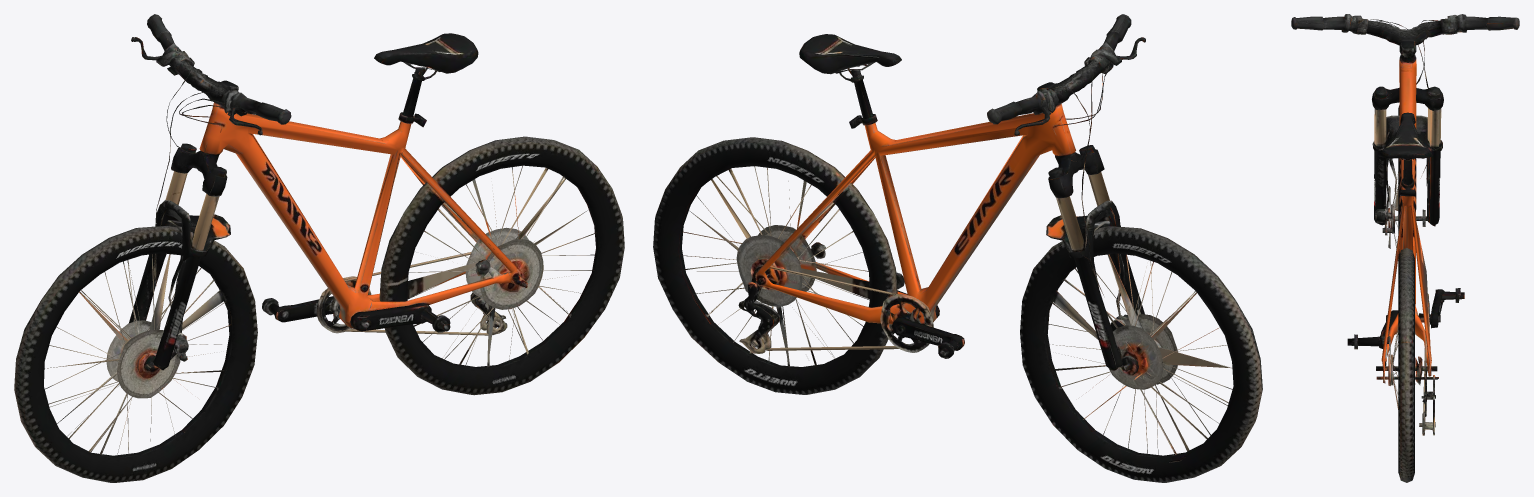
File: bike-body.glb
3 renders of one model, left to right at view 1: azimuth 30°, elevation 25°; view 2: azimuth 150°, elevation 25°; view 3: azimuth 270°, elevation 25°, orthographic. The views are drawn at different scales.
Bounding box in the file's own units: 0.9575 × 0.5991 × 0.3658.
Materials: 1 (1 with a texture image).
